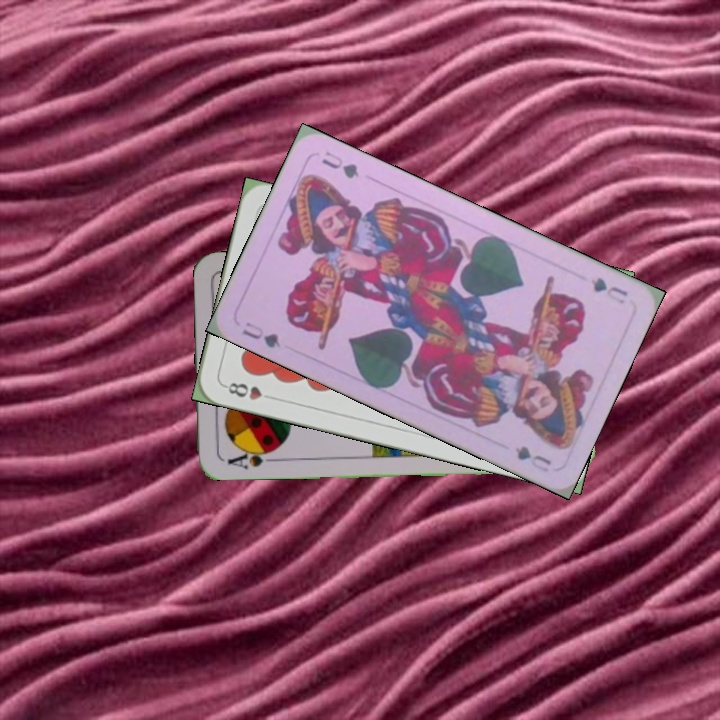GU: (238, 317, 284, 351), (586, 273, 630, 307)
H8: (220, 378, 278, 403)
SA: (224, 444, 280, 471)
